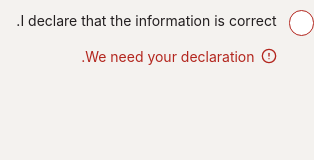
Test case: Toggle and Checkbox › ticks a declaration and explains when it is missing
Click the checkbox labelled "I declare that the information is correct.".
click(165, 23)  # box [16,10,313,36]
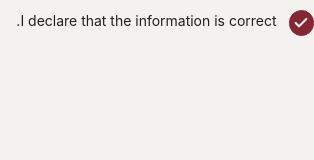
Expected: the checkbox labelled "I declare that the information is correct." is checked, [16,10,313,36]
